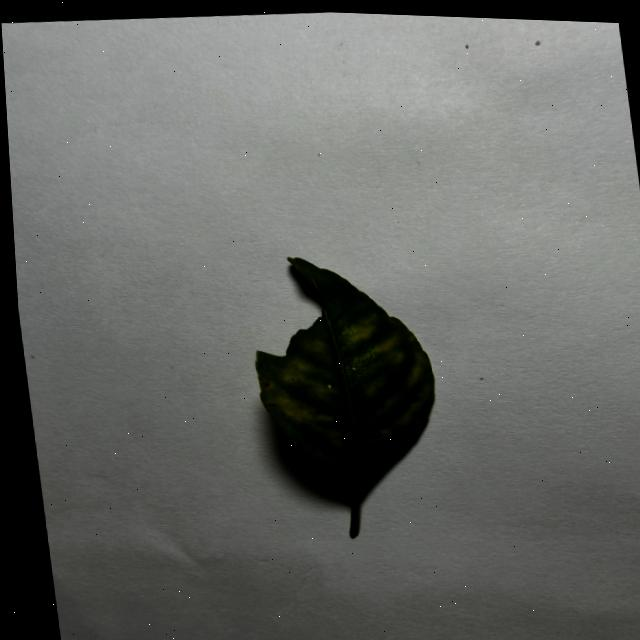greening: (255, 257, 432, 536)
